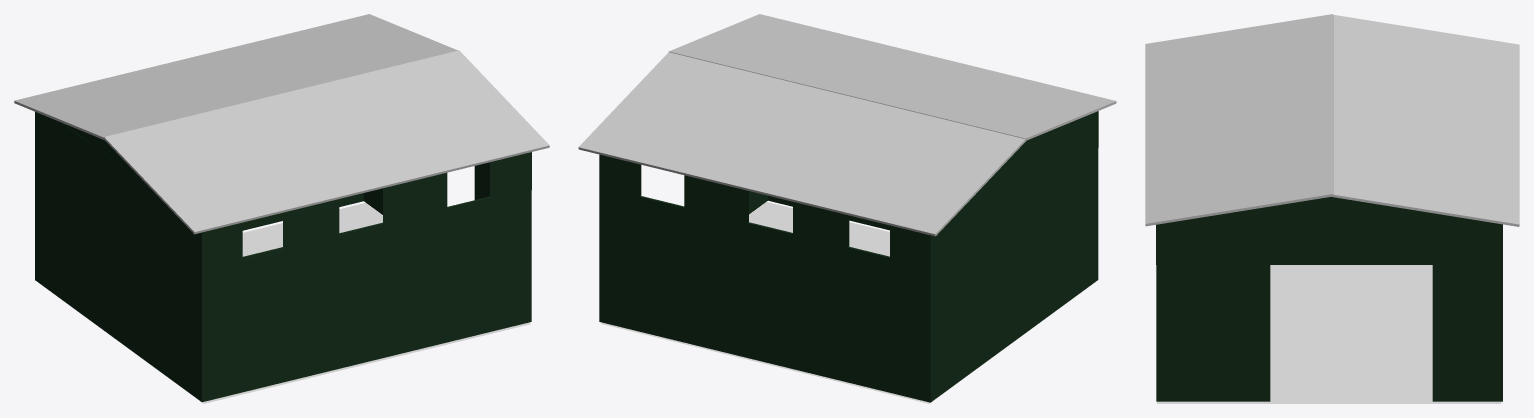
The model's file is Warehouse.fbx.
3 views of the same model, side by side, from view 1: azimuth 30°, elevation 25°; view 2: azimuth 150°, elevation 25°; view 3: azimuth 270°, elevation 25° (orthographic). The views are drawn at different scales.
Parts seen in each view (by area): view 1: Cube, Cube.015, Cube.002, Cube.016, Cube.008, Cube.007, Plane, Cube.001, Cube.003, Cube.012; view 2: Cube.001, Cube.016, Cube.002, Cube.015, Cube.006, Cube.007, Plane, Cube, Cube.012; view 3: Cube.015, Cube.016, Plane, Cube.003, Cube.005, Cube.004, Cube.011, Cube.010, Cube.009, Cube.001.
Boxes of the visible parts, bbox=[...] form: Cube: bbox=[200, 190, 531, 402]; Cube.015: bbox=[104, 50, 549, 234]; Cube.002: bbox=[36, 147, 200, 400]; Cube.016: bbox=[14, 14, 457, 139]; Cube.008: bbox=[200, 152, 531, 270]; Cube.007: bbox=[36, 112, 200, 266]; Plane: bbox=[39, 203, 530, 403]; Cube.001: bbox=[35, 149, 363, 280]; Cube.003: bbox=[474, 162, 489, 199]; Cube.012: bbox=[83, 131, 146, 184]; Cube.001: bbox=[599, 189, 931, 402]; Cube.016: bbox=[578, 52, 1026, 236]; Cube.002: bbox=[932, 146, 1096, 401]; Cube.015: bbox=[668, 14, 1116, 140]; Cube.006: bbox=[599, 154, 931, 270]; Cube.007: bbox=[932, 111, 1096, 266]; Plane: bbox=[600, 202, 1095, 403]; Cube: bbox=[768, 148, 1098, 280]; Cube.012: bbox=[985, 131, 1048, 184]; Cube.015: bbox=[1145, 14, 1333, 226]; Cube.016: bbox=[1331, 14, 1519, 226]; Plane: bbox=[1157, 265, 1501, 403]; Cube.003: bbox=[1156, 262, 1270, 401]; Cube.005: bbox=[1158, 217, 1500, 264]; Cube.004: bbox=[1432, 263, 1500, 401]; Cube.011: bbox=[1257, 209, 1402, 252]; Cube.010: bbox=[1327, 197, 1501, 236]; Cube.009: bbox=[1160, 197, 1332, 236]; Cube.001: bbox=[1500, 265, 1502, 401].
Bounding box in the file's own units: 1719 × 964 × 1512.
